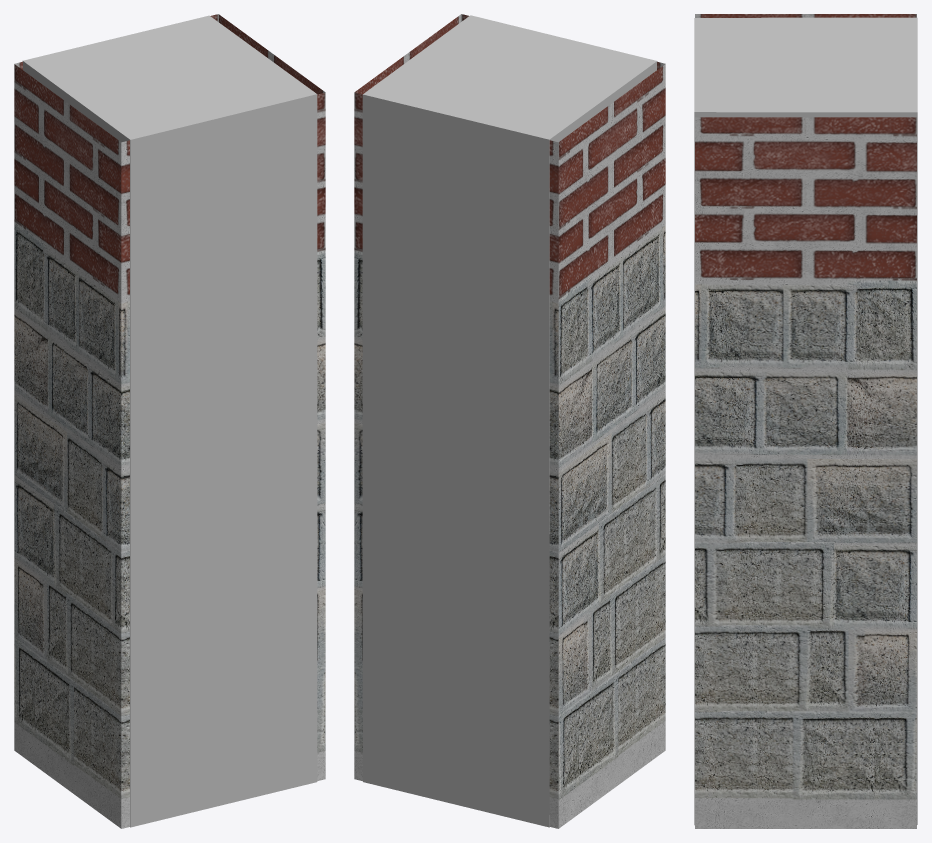
The model's file is SM_DG_HG_StoneWallI.fbx.
3 renders of one model, left to right at view 1: azimuth 30°, elevation 25°; view 2: azimuth 150°, elevation 25°; view 3: azimuth 270°, elevation 25°, orthographic. The views are drawn at different scales.
Parts seen in each view (by area): view 1: SM_DG_HG_StoneWallI_ConvexHulls, SM_DG_HG_StoneWallI; view 2: SM_DG_HG_StoneWallI_ConvexHulls, SM_DG_HG_StoneWallI; view 3: SM_DG_HG_StoneWallI, SM_DG_HG_StoneWallI_ConvexHulls.
Part boxes in pixels (box(x1,y1,x2,y2)): SM_DG_HG_StoneWallI_ConvexHulls: box(22, 15, 317, 827); SM_DG_HG_StoneWallI: box(14, 14, 325, 828); SM_DG_HG_StoneWallI_ConvexHulls: box(362, 15, 657, 827); SM_DG_HG_StoneWallI: box(354, 14, 665, 828); SM_DG_HG_StoneWallI: box(695, 14, 916, 828); SM_DG_HG_StoneWallI_ConvexHulls: box(694, 17, 917, 825).
Size of the model in its own units: 42.89 by 39.21 by 138.
Materials: 2 (1 with a texture image).
